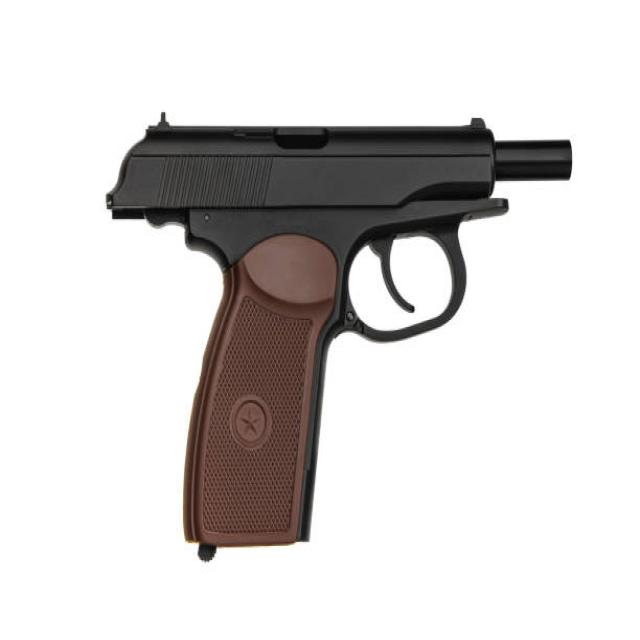pistol: (104, 108, 578, 572)
